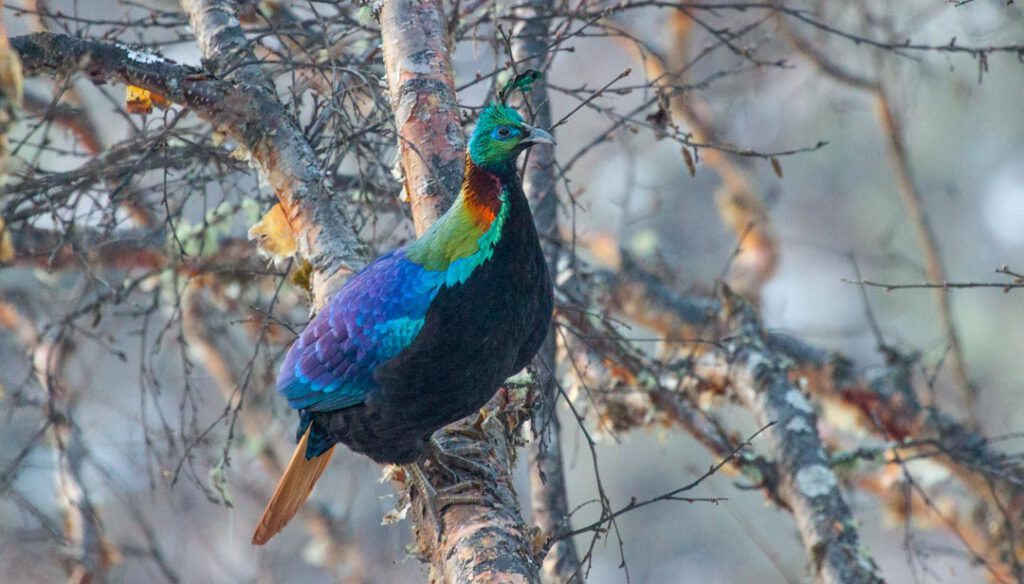bird: (235, 101, 579, 553)
